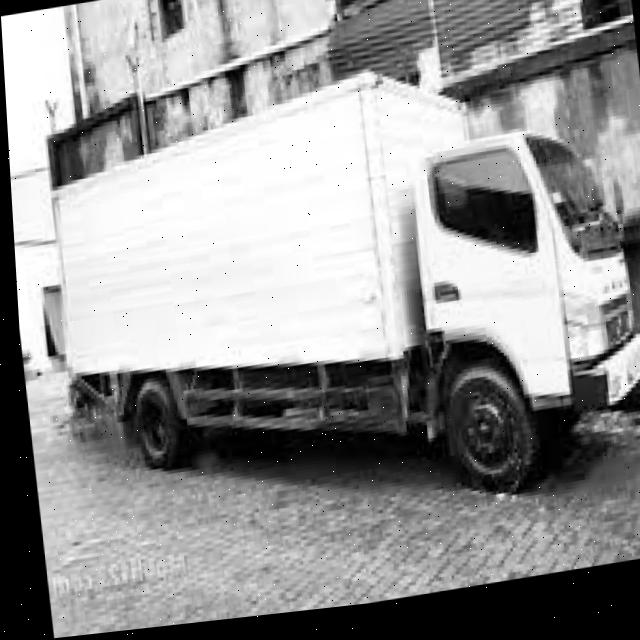truck: (376, 104, 640, 521)
